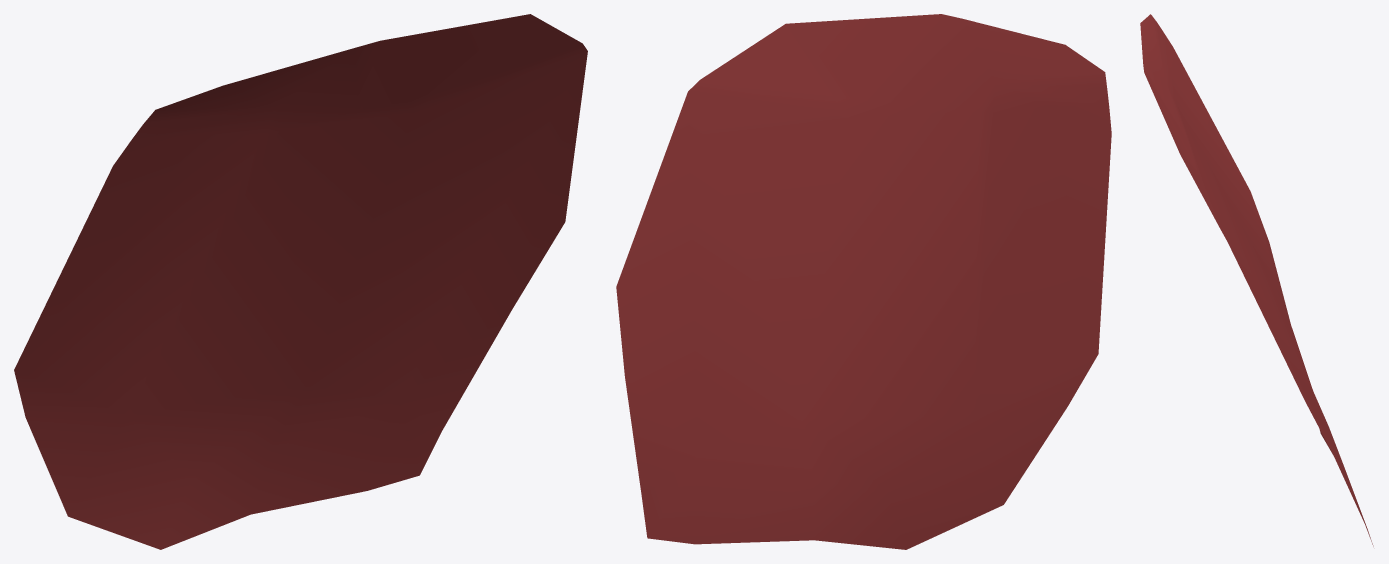
File: longissimus-thoracis-muscle-e18l.glb
3 renders of one model, left to right at view 1: azimuth 30°, elevation 25°; view 2: azimuth 150°, elevation 25°; view 3: azimuth 270°, elevation 25°, orthographic. The views are drawn at different scales.
Visible parts, largest first — view 1: Longissimus thoracis muscle.e18l; view 2: Longissimus thoracis muscle.e18l; view 3: Longissimus thoracis muscle.e18l.
Part boxes in pixels (x1,y1,x2,y2): Longissimus thoracis muscle.e18l: [14, 14, 587, 549]; Longissimus thoracis muscle.e18l: [616, 14, 1111, 549]; Longissimus thoracis muscle.e18l: [1140, 14, 1373, 546].
Bounding box in the file's own units: 0.00744 × 0.00736 × 0.00383.
